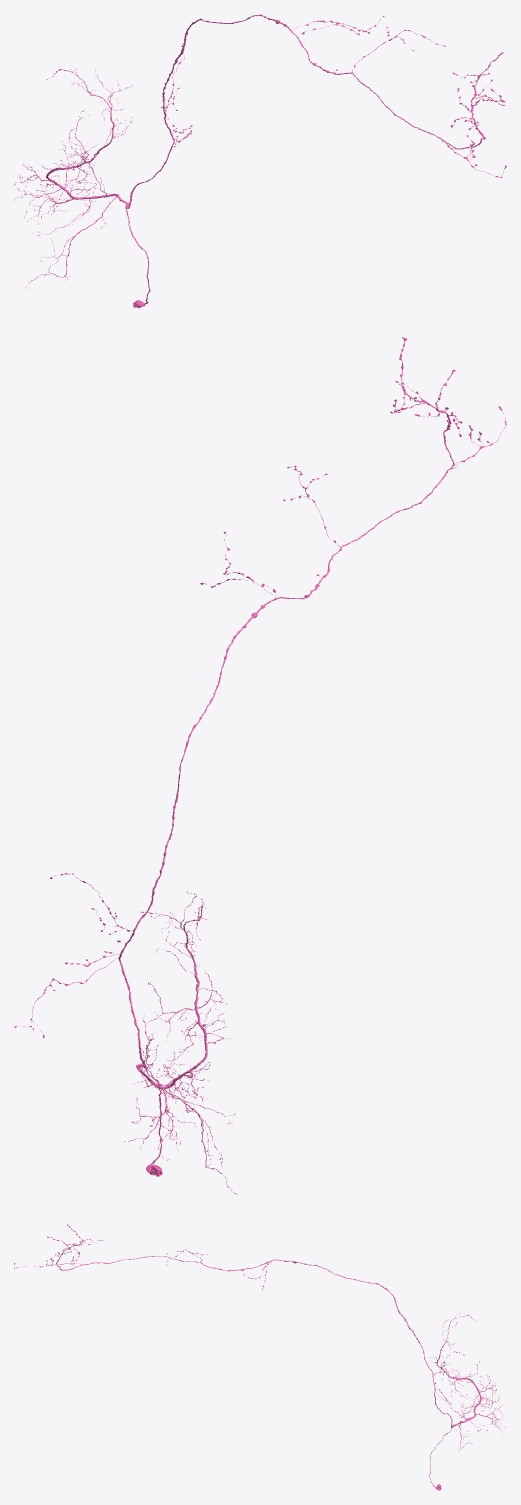
Rendered from VFB_jrmc20bu.glb.
3 views of the same model, one above another, from view 1: azimuth 30°, elevation 25°; view 2: azimuth 150°, elevation 25°; view 3: azimuth 270°, elevation 25° (orthographic). The views are drawn at different scales.
Visible parts, largest first — view 1: VFB_jrmc20bu; view 2: VFB_jrmc20bu; view 3: VFB_jrmc20bu.
Boxes of the visible parts, box(x1,y1,x2,y2) form: VFB_jrmc20bu: box(14, 14, 506, 308); VFB_jrmc20bu: box(14, 337, 506, 1195); VFB_jrmc20bu: box(14, 1224, 505, 1490).
Bounding box in the file's own units: 0.1505 × 0.3329 × 0.509.
